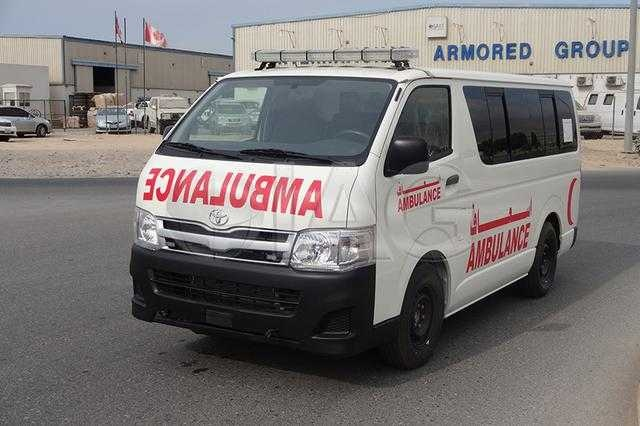Ambulance: (122, 23, 591, 390)
